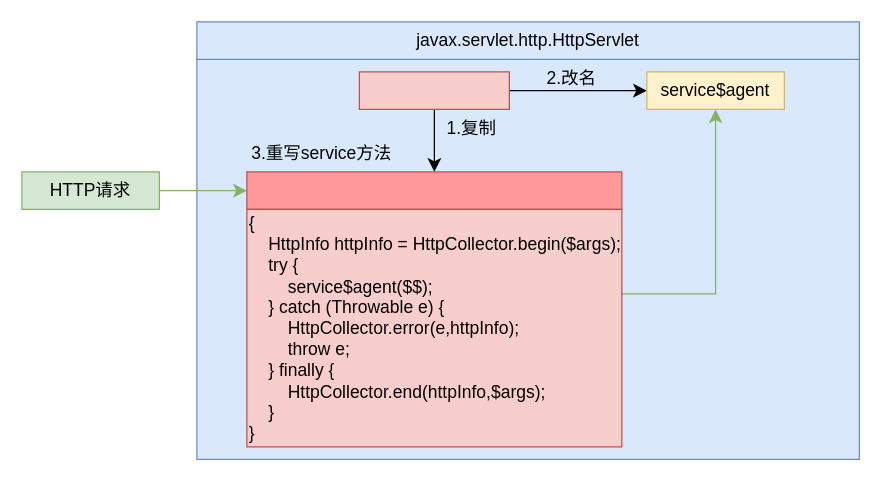
This 881x481 diagram has some shape labels left out. The shapes that lost their labels are listed below. From the top down, each one's centre as x and y in pixels, then its label:
point (433, 90): service(原生)
point (434, 190): service(新)
